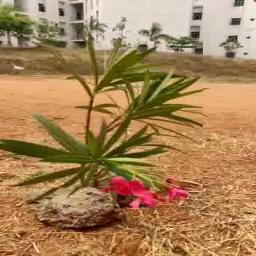OLEANDER: (0, 41, 204, 188)
